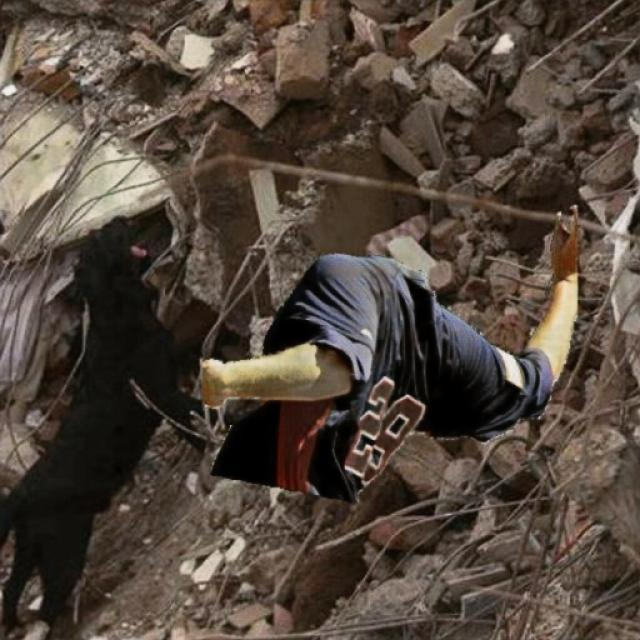Person in Rubble: (203, 205, 576, 501)
